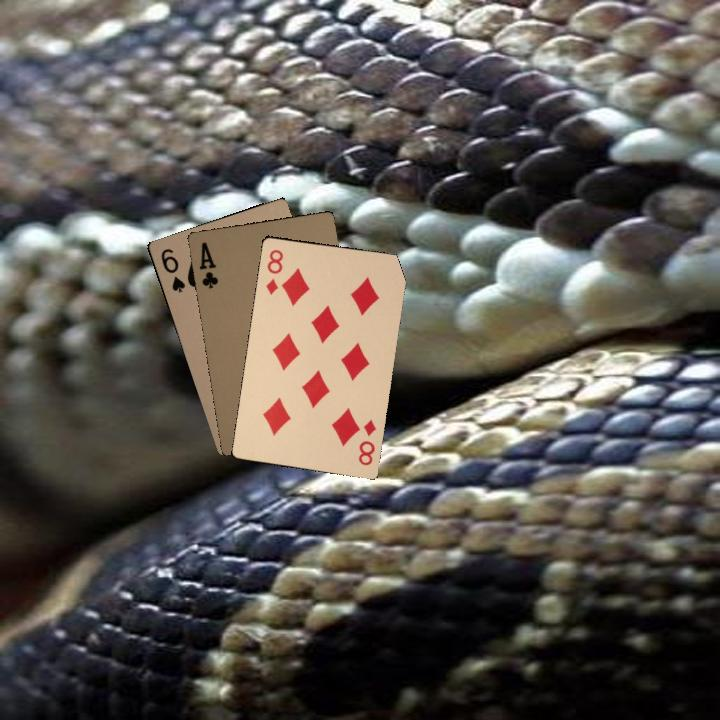6s: (157, 244, 188, 295)
8d: (354, 415, 379, 468), (262, 245, 286, 297)
Ac: (195, 238, 221, 291)
